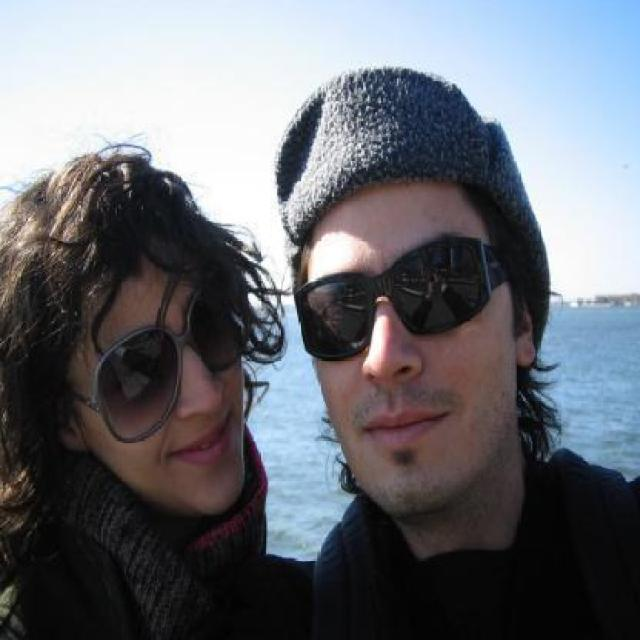face_nomask: (302, 254, 492, 468), (95, 303, 258, 492)
glasses: (67, 288, 267, 448), (286, 231, 508, 366)
head_nohelmet: (267, 74, 524, 215), (4, 143, 244, 271)
